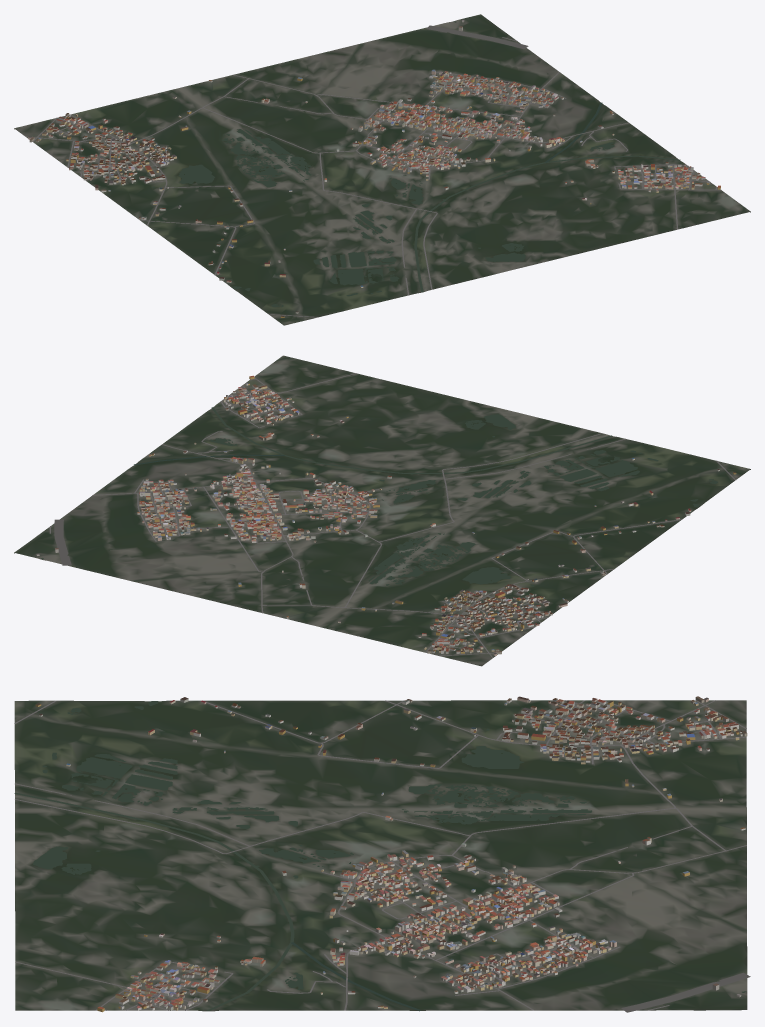
3 views of the same model, one above another, from view 1: azimuth 30°, elevation 25°; view 2: azimuth 150°, elevation 25°; view 3: azimuth 270°, elevation 25° (orthographic). The views are drawn at different scales.
Parts seen in each view (by area): view 1: ground, buildings, water, roads; view 2: ground, buildings, water, roads; view 3: ground, buildings, water, roads.
Part boxes in pixels (x1,y1,x2,y2): ground: (14, 14, 750, 325); buildings: (28, 20, 720, 317); water: (152, 21, 680, 307); roads: (25, 25, 720, 317); ground: (14, 355, 750, 666); buildings: (36, 375, 736, 655); water: (41, 407, 717, 586); roads: (49, 373, 735, 657); ground: (14, 700, 747, 1011); buildings: (35, 696, 747, 1012); water: (14, 701, 746, 1011); roads: (14, 700, 750, 1012).
Bounding box in the file's own units: 1421 × 16.39 × 1412.
